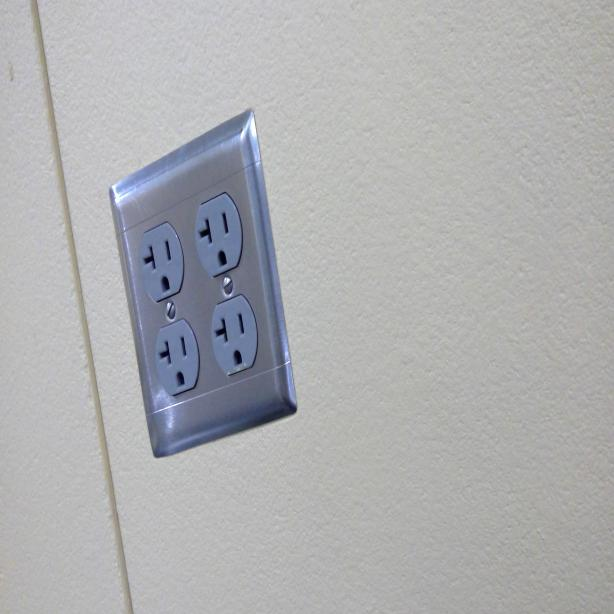typeb: (193, 202, 242, 274), (211, 302, 253, 369), (139, 232, 180, 296), (155, 327, 193, 394)
